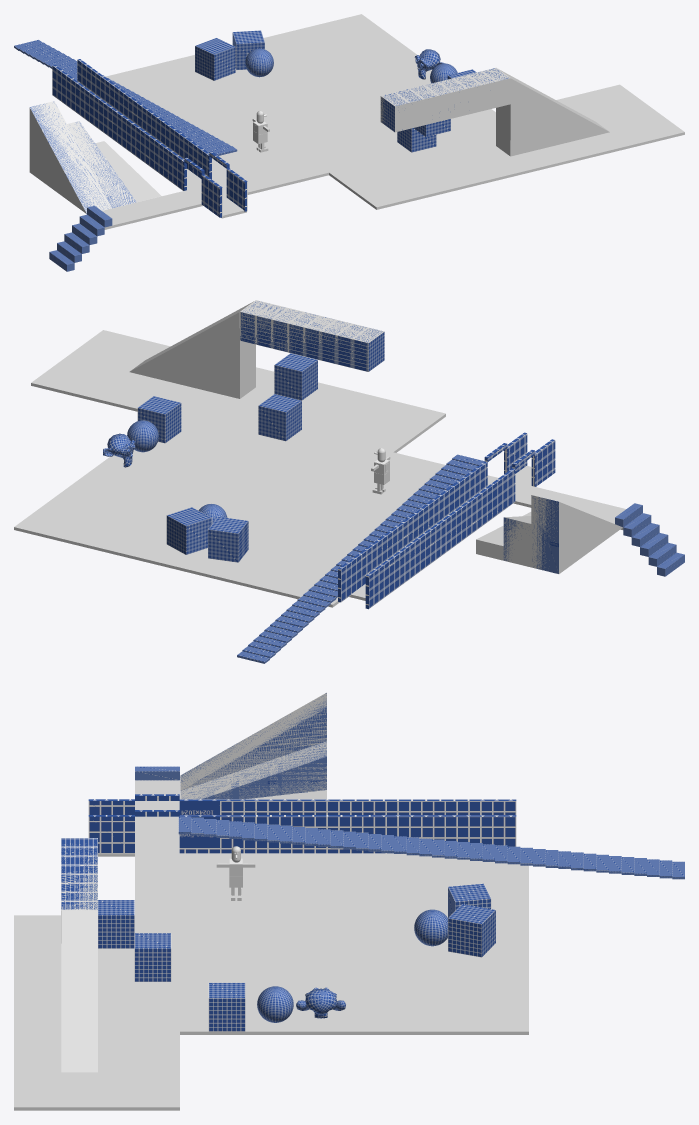
Rendered from alphamap.glb.
3 renders of one model, top to bottom at view 1: azimuth 30°, elevation 25°; view 2: azimuth 150°, elevation 25°; view 3: azimuth 270°, elevation 25°, orthographic. The views are drawn at different scales.
Parts seen in each view (by area): view 1: GEEC_Floor, Wall1, GEEC_Ramp1, GEEC_Ramp, GEEC_Platform, Wall2, Stairs1, Stairs2, GEEC_Ramp2, Cube1, Ramp1, Platform (+7 smaller); view 2: GEEC_Floor, Wall1, GEEC_Ramp, Stairs1, Wall2, Platform, GEEC_Ramp1, GEEC_Platform, Stairs2, Cube4, Cube5, Cube2 (+7 smaller); view 3: GEEC_Floor, Wall2, Stairs1, Wall1, GEEC_Ramp, GEEC_Ramp1, Ramp2, GEEC_Ramp2, Ramp1, Platform, Cube2, Cube6 (+8 smaller).
Boxes of the visible parts, x1,y1,x2,y2 form: GEEC_Floor: [102, 14, 684, 229]; Wall1: [52, 65, 222, 217]; GEEC_Ramp1: [29, 101, 111, 213]; GEEC_Ramp: [496, 69, 609, 156]; GEEC_Platform: [380, 67, 510, 132]; Wall2: [77, 59, 247, 211]; Stairs1: [14, 39, 237, 155]; Stairs2: [49, 205, 112, 271]; GEEC_Ramp2: [67, 121, 136, 207]; Cube1: [195, 38, 235, 80]; Ramp1: [30, 101, 108, 213]; Platform: [380, 68, 509, 132]; GEEC_Floor: [14, 330, 625, 607]; Wall1: [365, 439, 555, 609]; GEEC_Ramp: [129, 301, 255, 398]; Stairs1: [237, 454, 484, 663]; Wall2: [338, 432, 527, 602]; Platform: [240, 301, 384, 371]; GEEC_Ramp1: [531, 495, 622, 573]; GEEC_Platform: [240, 300, 384, 360]; Stairs2: [615, 503, 684, 576]; Cube4: [274, 353, 317, 400]; Cube5: [258, 394, 301, 441]; Cube2: [166, 507, 211, 554]; GEEC_Floor: [14, 780, 528, 1110]; Wall2: [88, 810, 516, 854]; Stairs1: [178, 816, 684, 879]; Wall1: [88, 794, 516, 814]; GEEC_Ramp: [61, 910, 97, 1072]; GEEC_Ramp1: [180, 692, 326, 790]; Ramp2: [181, 742, 326, 799]; GEEC_Ramp2: [180, 741, 326, 799]; Ramp1: [180, 693, 326, 790]; Platform: [61, 838, 97, 910]; Cube2: [448, 904, 495, 957]; Cube6: [208, 982, 245, 1031].
Bounding box in the file's own units: 0.9157 × 0.1742 × 0.7309.
2 materials, 2 textured.
